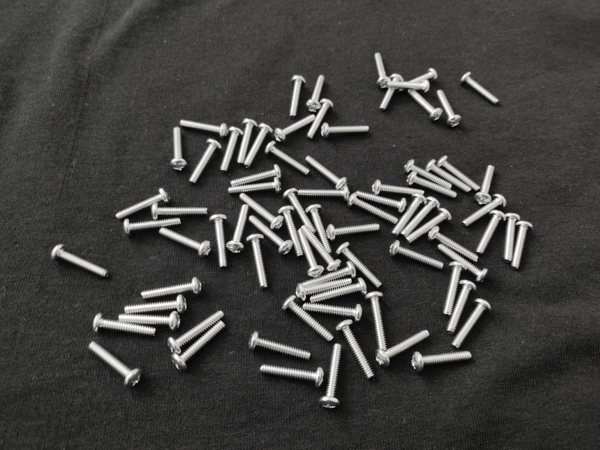longscrew: (170, 319, 228, 372), (87, 341, 144, 390), (280, 295, 336, 343), (167, 310, 225, 356), (336, 320, 375, 381), (375, 329, 432, 369), (450, 298, 493, 351), (435, 243, 490, 284), (336, 242, 383, 289), (49, 245, 110, 279), (246, 331, 312, 362), (300, 224, 342, 272), (248, 214, 294, 257), (427, 226, 480, 263), (115, 187, 172, 221), (444, 279, 478, 336), (317, 343, 344, 411), (187, 137, 223, 188), (239, 192, 285, 231), (158, 227, 212, 260), (388, 239, 445, 270), (406, 207, 453, 244), (400, 196, 441, 238), (298, 260, 357, 289), (346, 192, 399, 224), (264, 141, 311, 177), (460, 194, 508, 229), (282, 188, 318, 234), (310, 277, 369, 305), (364, 291, 388, 359), (436, 156, 481, 192), (391, 194, 429, 236), (295, 276, 354, 303), (402, 159, 455, 189), (92, 313, 158, 337), (410, 350, 474, 374), (425, 160, 473, 192), (304, 155, 349, 189), (259, 364, 325, 387), (277, 205, 305, 259), (442, 261, 468, 319), (141, 276, 203, 300), (476, 210, 507, 258), (406, 171, 459, 199), (305, 205, 334, 255), (245, 233, 270, 289), (460, 71, 501, 105), (244, 123, 274, 169), (117, 311, 182, 332), (273, 112, 317, 143), (297, 229, 325, 277), (407, 88, 444, 124), (123, 295, 189, 315), (230, 164, 283, 188), (510, 220, 535, 270), (306, 98, 335, 141), (354, 190, 408, 213), (121, 216, 183, 236), (219, 125, 244, 174), (302, 302, 363, 322), (208, 213, 229, 271), (226, 204, 250, 254), (150, 202, 210, 221), (228, 176, 282, 197), (436, 88, 463, 130), (236, 118, 259, 166), (378, 73, 405, 113), (179, 117, 229, 138), (397, 67, 439, 92), (298, 184, 352, 203), (327, 223, 382, 241), (371, 179, 425, 197), (503, 212, 521, 265), (475, 165, 497, 206), (169, 126, 188, 173), (288, 73, 307, 119), (305, 73, 326, 114), (320, 122, 371, 138), (385, 78, 430, 94), (373, 52, 391, 89)
